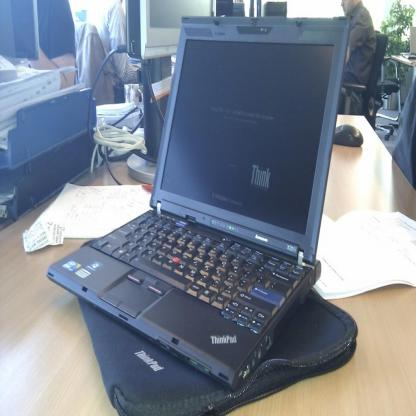board: (46, 16, 349, 390)
